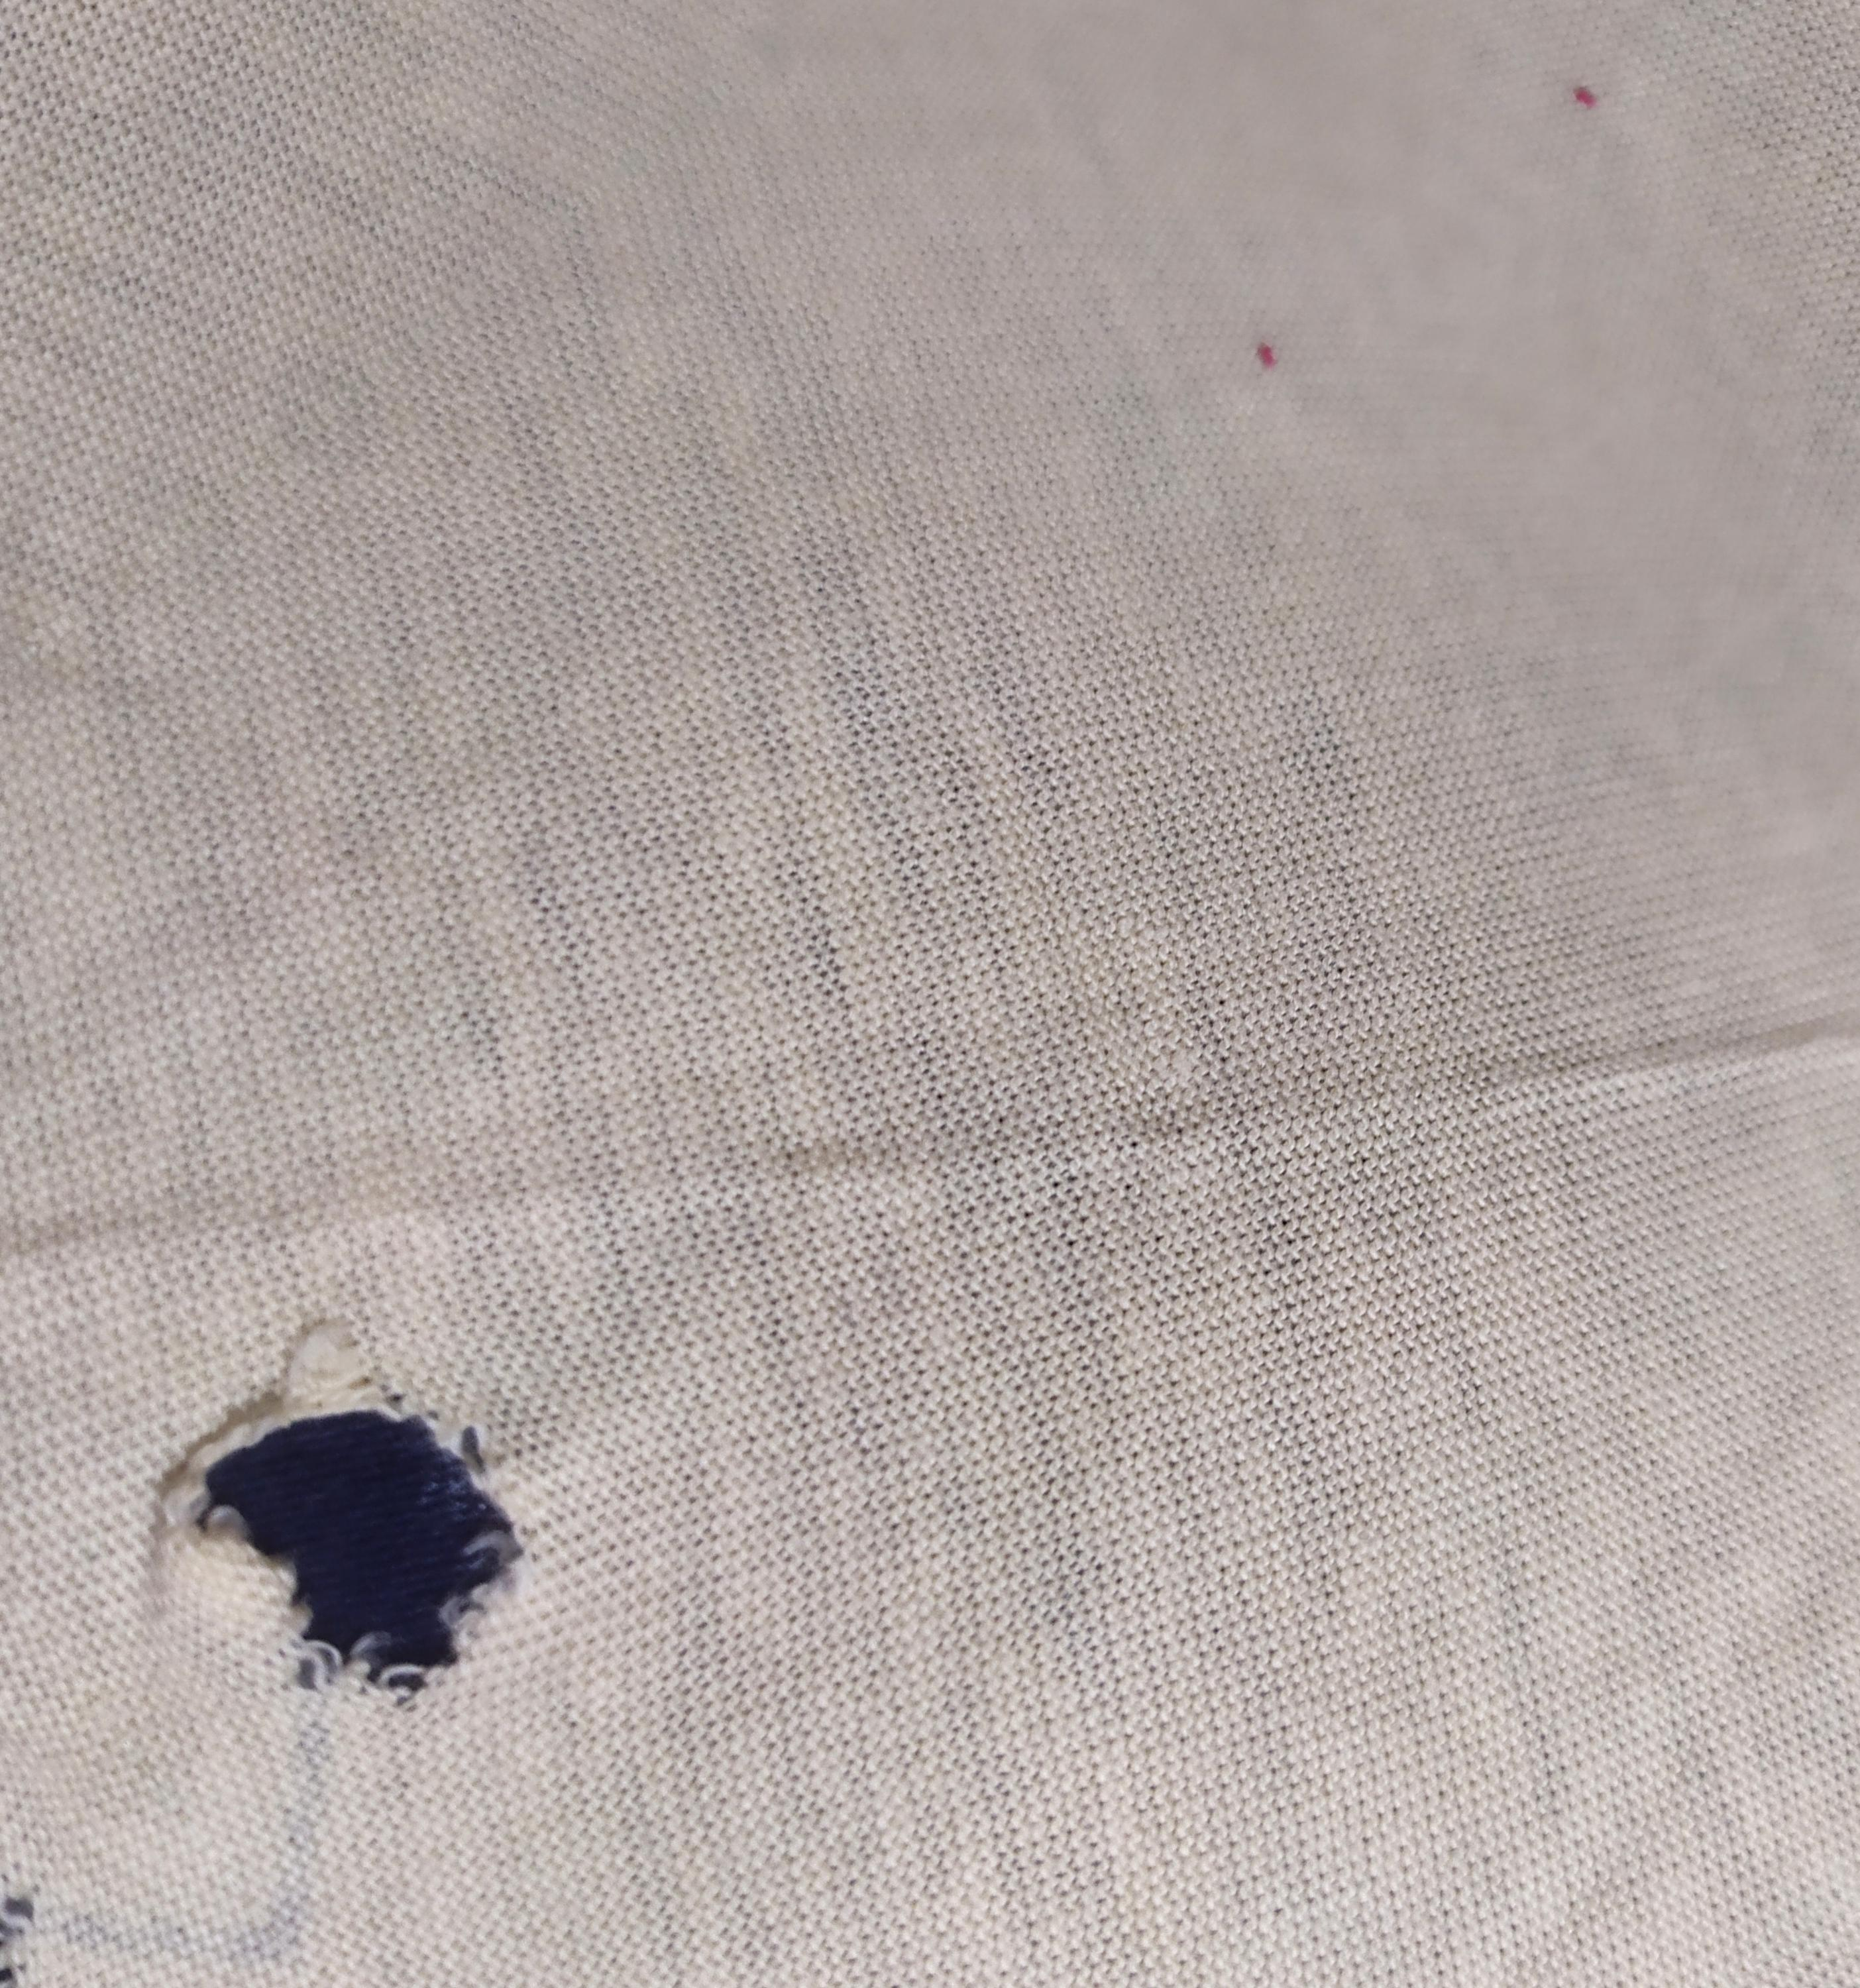hole: (177, 1338, 566, 1712)
